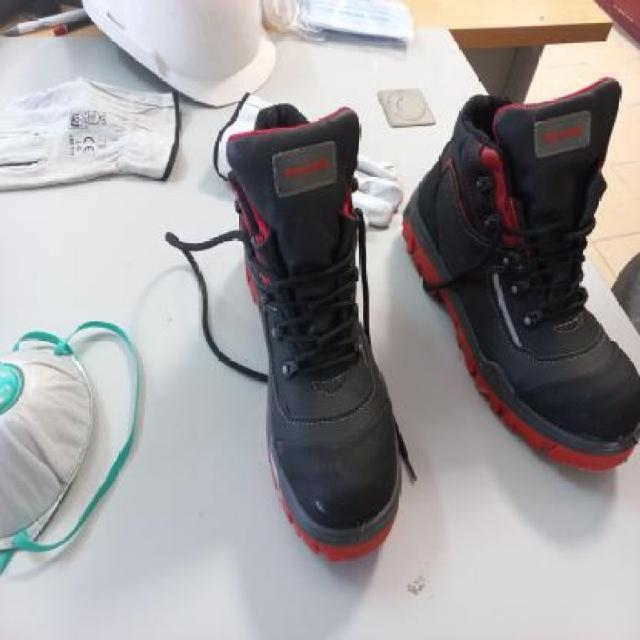helmet: (66, 0, 277, 97)
